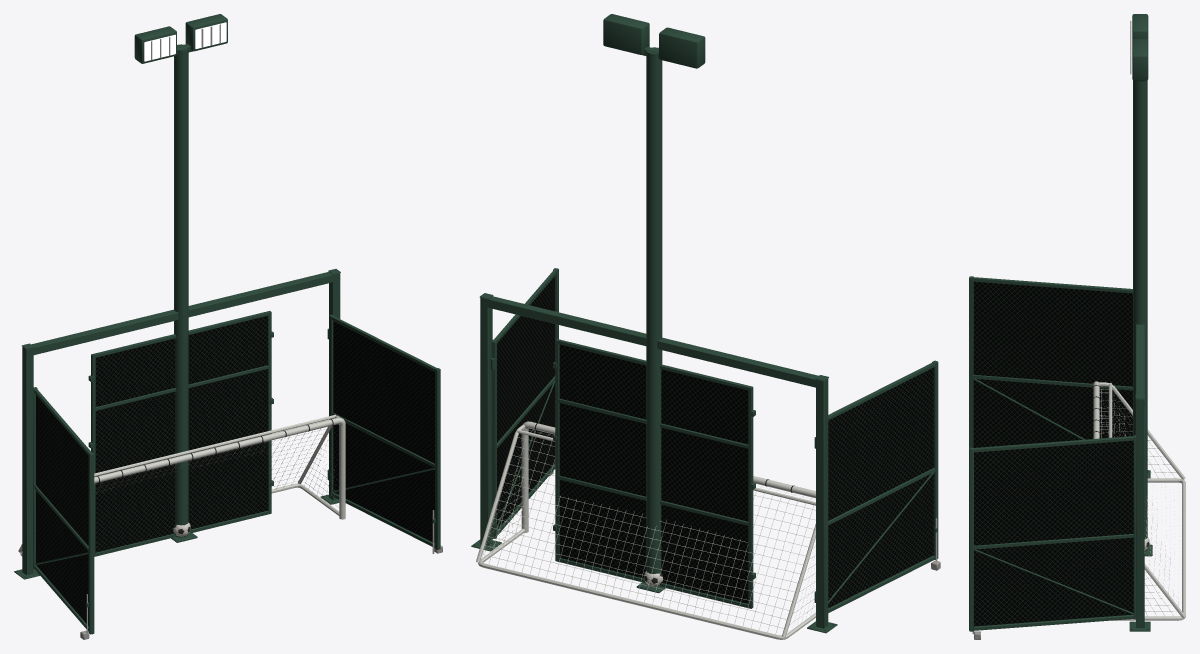
The model's file is heron-reach-cage.glb.
The picture shows the model from 3 angles, left to right: view 1: azimuth 30°, elevation 25°; view 2: azimuth 150°, elevation 25°; view 3: azimuth 270°, elevation 25°; orthographic projection. The views are drawn at different scales.
Parts seen in each view (by area): view 1: CAGE_GATE_4M, CAGE_PANEL_2_5M, CAGE_FLOODLIGHT, GOAL_FIVE_A_SIDE; view 2: CAGE_GATE_4M, CAGE_PANEL_2_5M, GOAL_FIVE_A_SIDE, CAGE_FLOODLIGHT; view 3: CAGE_GATE_4M, CAGE_FLOODLIGHT, GOAL_FIVE_A_SIDE.
Boxes of the visible parts, bbox=[...] form: CAGE_GATE_4M: bbox=[14, 269, 442, 639]; CAGE_PANEL_2_5M: bbox=[88, 311, 273, 556]; CAGE_FLOODLIGHT: bbox=[134, 14, 227, 542]; GOAL_FIVE_A_SIDE: bbox=[18, 414, 345, 556]; CAGE_GATE_4M: bbox=[471, 268, 940, 633]; CAGE_PANEL_2_5M: bbox=[553, 339, 755, 608]; GOAL_FIVE_A_SIDE: bbox=[476, 421, 815, 639]; CAGE_FLOODLIGHT: bbox=[603, 14, 705, 593]; CAGE_GATE_4M: bbox=[969, 276, 1150, 639]; CAGE_FLOODLIGHT: bbox=[1130, 14, 1152, 556]; GOAL_FIVE_A_SIDE: bbox=[1093, 381, 1185, 620].
Size of what is drawn, in the model's own units: 4.81 by 6.52 by 2.48.
11 materials, 2 textured.
